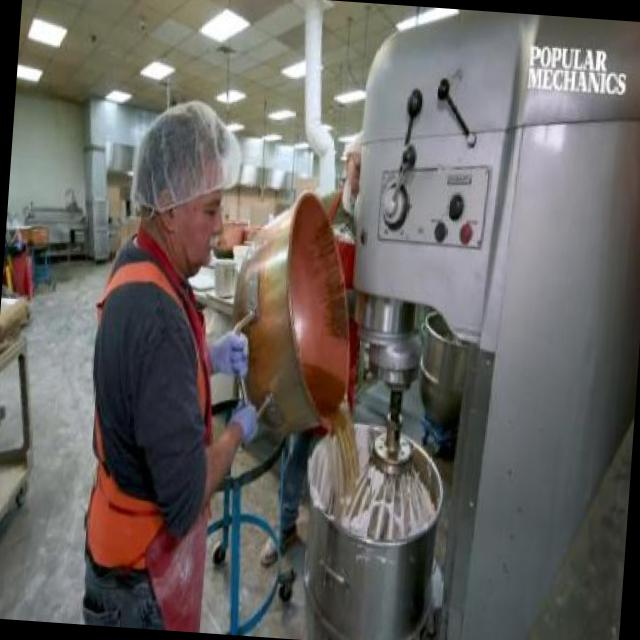hairnet: (130, 102, 243, 200)
